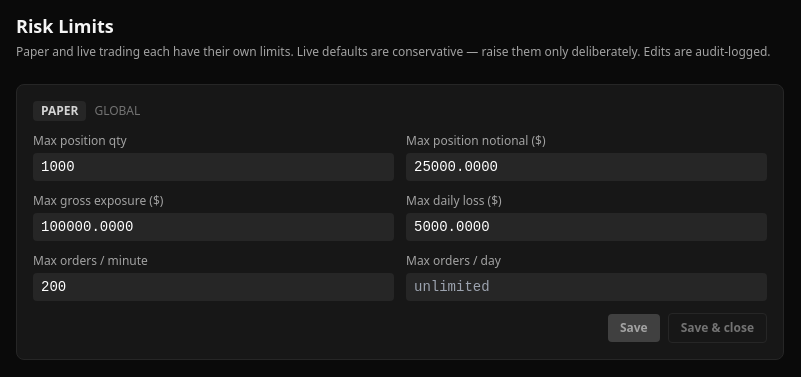
Settings → Risk Limits save feedback › Save & close returns to Settings; plain Save stays put
Replace the text in the field labelled "Max gross exposure ($)" with "110000": (214, 227) left=33, top=213, right=394, bottom=241
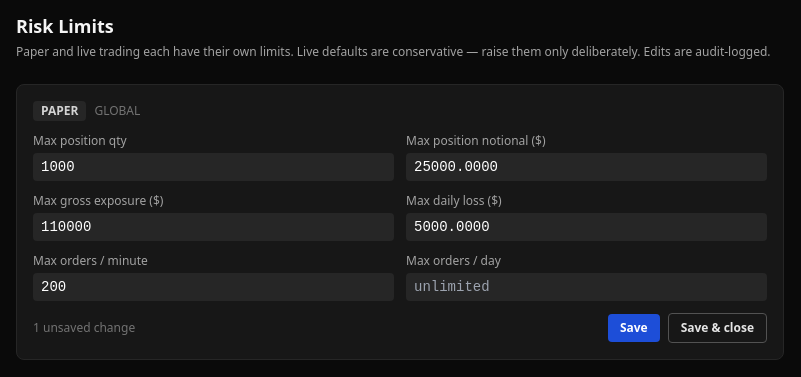
Click the button "Save & close": (717, 328) left=668, top=313, right=767, bottom=343
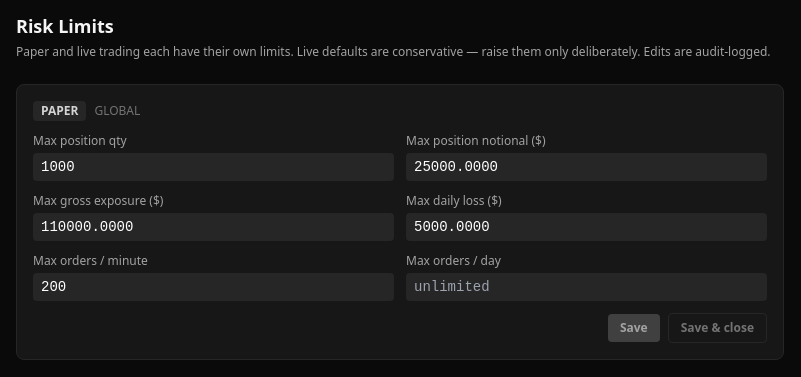
Now the field labelled "Max gross exposure ($)" holds "110000.0000"
Replace the text in the field labelled "Max gross exposure ($)" with "120000": (214, 227) left=33, top=213, right=394, bottom=241
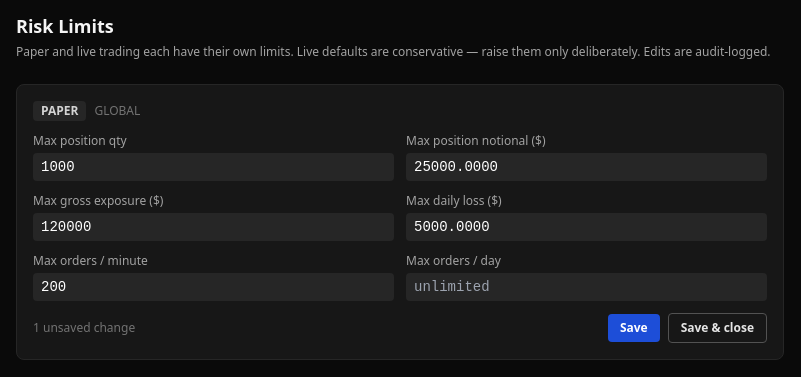
Click the button "Save": (634, 328) left=608, top=314, right=660, bottom=342
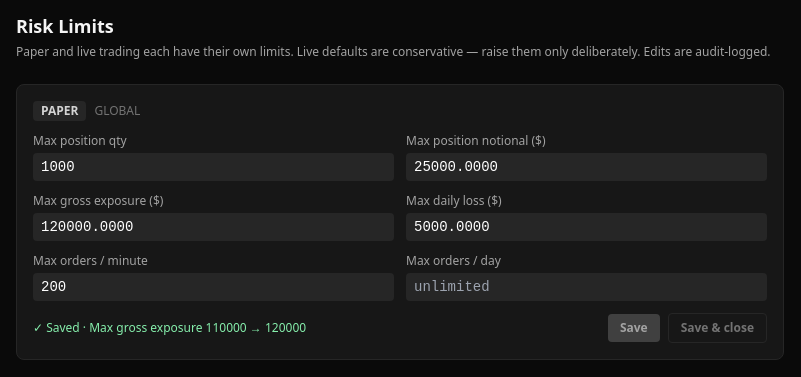
Now the message "✓ Saved · Max gross exposure 110000 → 120000" is shown, box left=33, top=320, right=306, bottom=336
